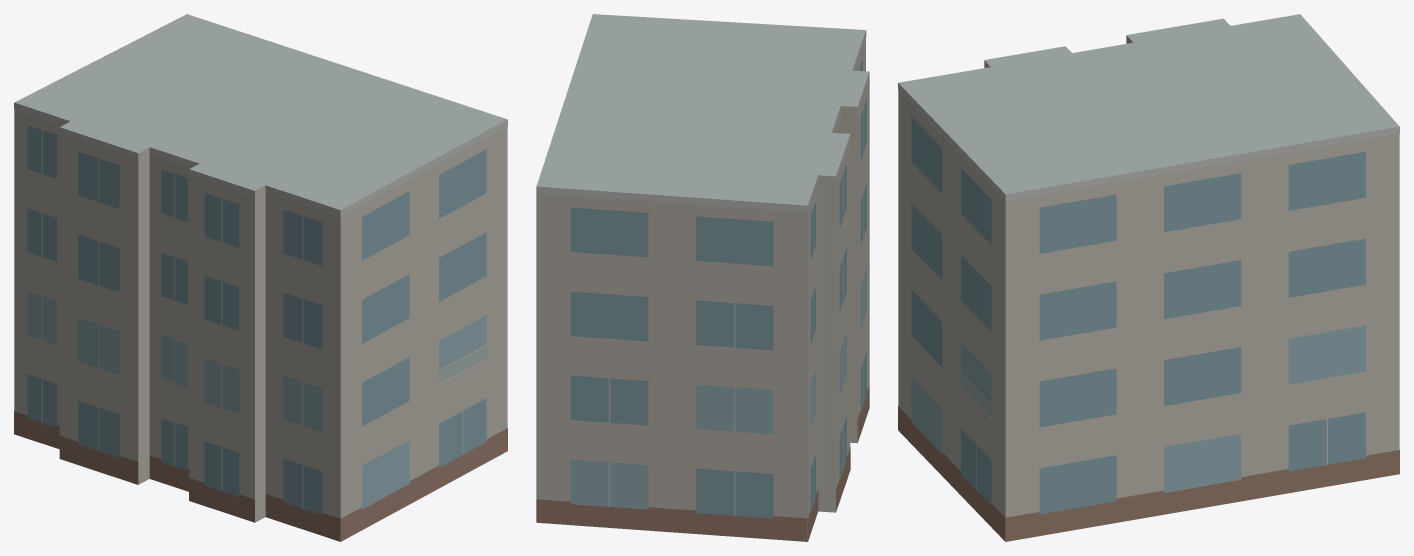
Rendered from survey-upis-32818974.glb.
3 views of the same model, side by side, from view 1: azimuth 30°, elevation 25°; view 2: azimuth 150°, elevation 25°; view 3: azimuth 270°, elevation 25° (orthographic). The views are drawn at different scales.
Parts seen in each view (by area): view 1: survey-upis-32818974.tmp; view 2: survey-upis-32818974.tmp; view 3: survey-upis-32818974.tmp.
Boxes of the visible parts, x1,y1,x2,y2 form: survey-upis-32818974.tmp: [14, 14, 507, 541]; survey-upis-32818974.tmp: [536, 14, 869, 541]; survey-upis-32818974.tmp: [898, 14, 1399, 541].
Size of the model in its own units: 13.59 by 12.2 by 15.97.
